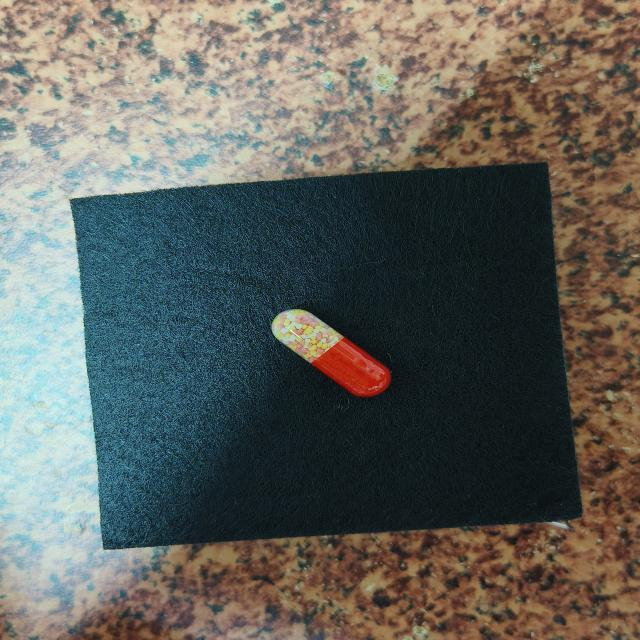Intact Capsule: (271, 309, 392, 397)
